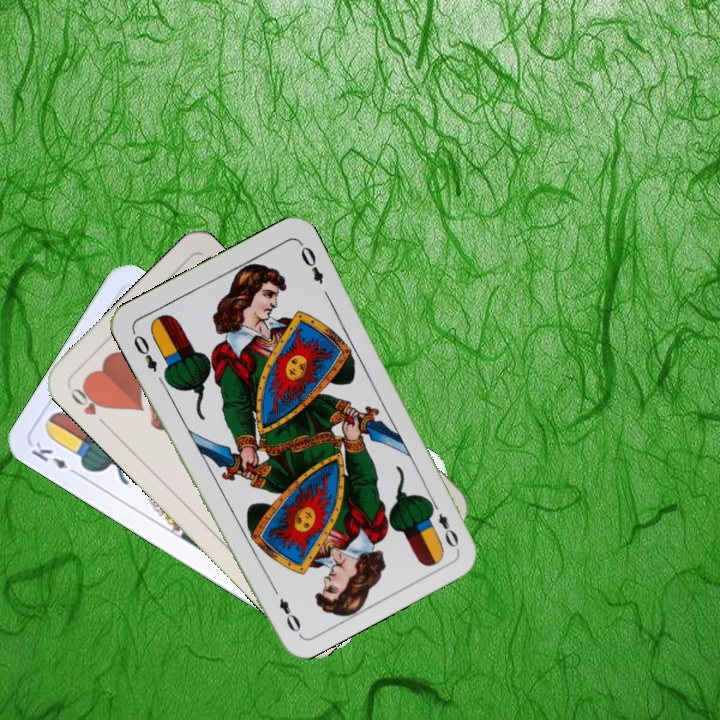EK: (27, 437, 82, 479)
EO: (425, 496, 462, 551), (128, 327, 160, 375)
HO: (65, 380, 111, 430)
